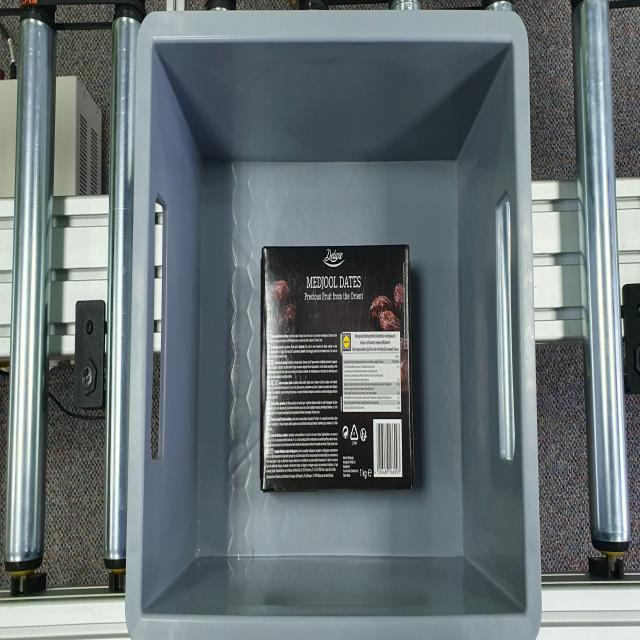box: (258, 244, 416, 498)
